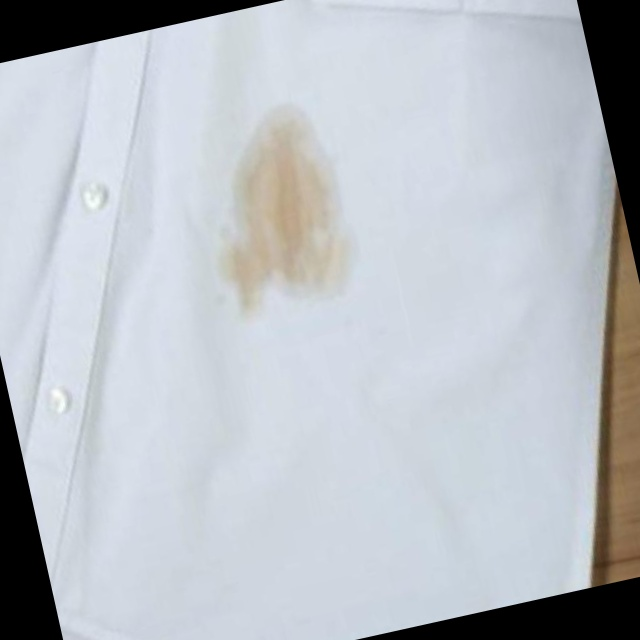coffee: (191, 98, 364, 322)
